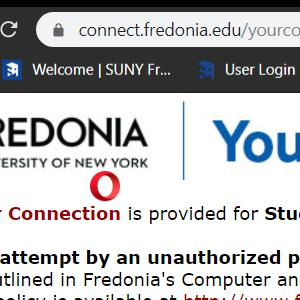opera: (90, 170, 120, 201)
